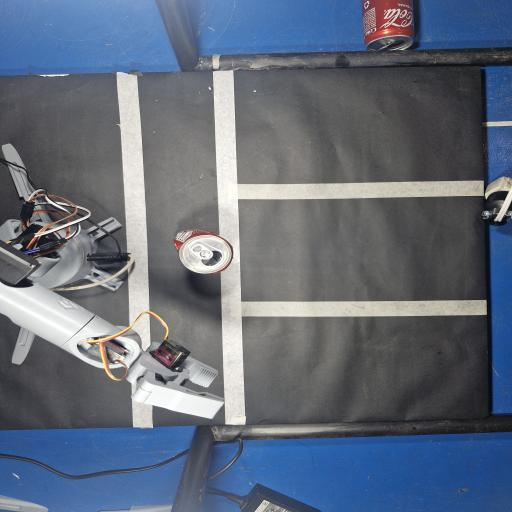lata_defectuoso: (174, 230, 233, 273)
